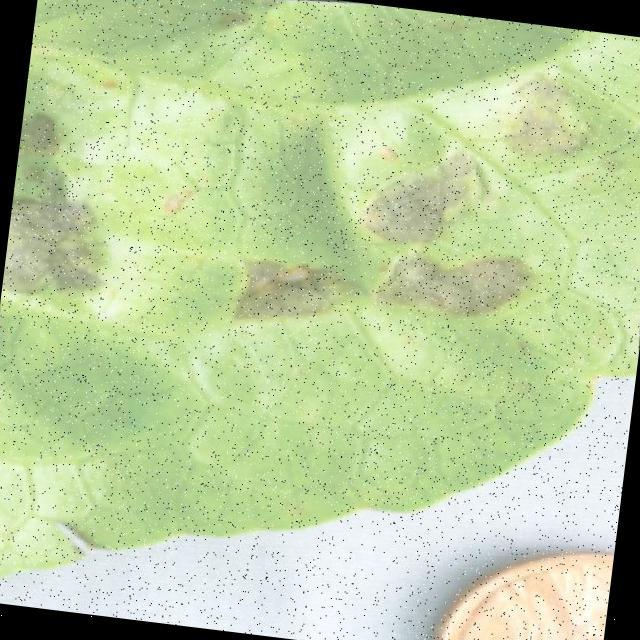Bacterial: (0, 3, 640, 409)
